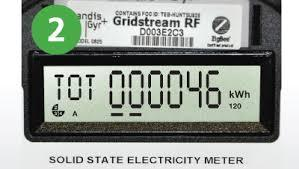.: (228, 89, 252, 100)
1: (164, 69, 185, 110), (145, 68, 165, 109), (106, 69, 126, 109), (127, 68, 146, 108)
5: (186, 67, 206, 116)
7: (205, 67, 223, 111)
